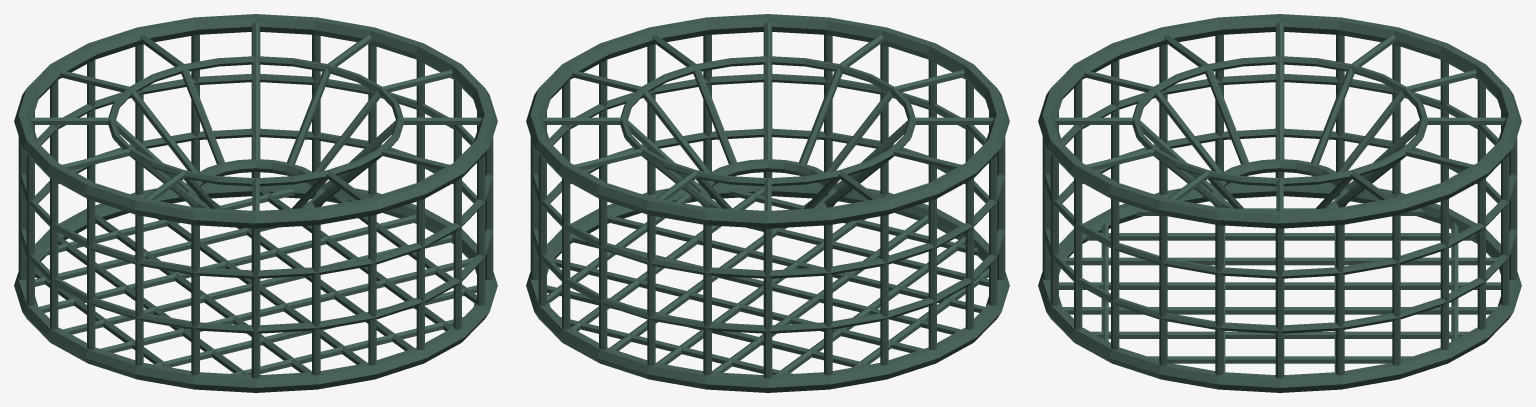
The model's file is crab_pot.glb.
3 renders of one model, left to right at view 1: azimuth 30°, elevation 25°; view 2: azimuth 150°, elevation 25°; view 3: azimuth 270°, elevation 25°, orthographic.
Parts seen in each view (by area): view 1: crab_pot; view 2: crab_pot; view 3: crab_pot.
Part boxes in pixels (left/top/right/bottom): crab_pot: left=14, top=14, right=497, bottom=392; crab_pot: left=526, top=14, right=1009, bottom=392; crab_pot: left=1038, top=14, right=1521, bottom=392.
Size of the model in its own units: 1.04 by 0.4219 by 1.04.
